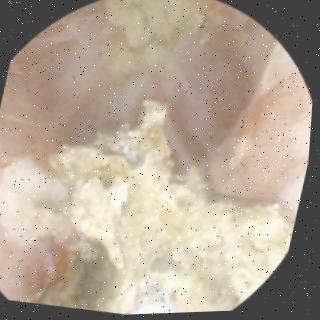stone: (35, 102, 298, 316), (102, 0, 210, 79)
tissue: (0, 4, 313, 295)
